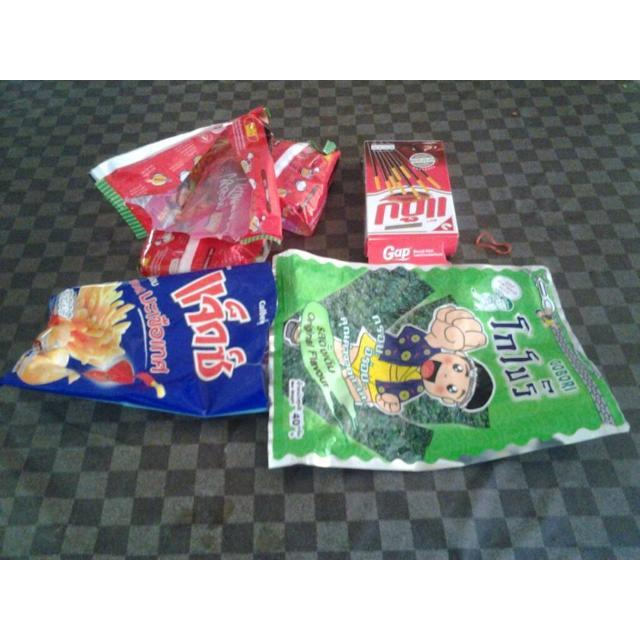Paquete de plastico: (267, 255, 632, 474), (1, 267, 274, 424), (90, 105, 285, 277), (363, 136, 457, 264), (273, 135, 342, 238)
